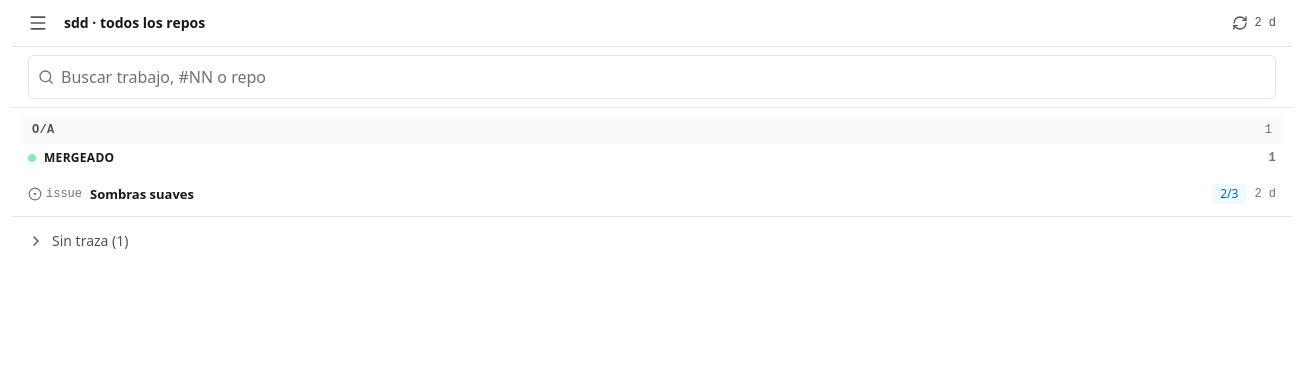
Test case: marcas de traza y ancla en la lista y el detalle › la fila de un trabajo sin traza lleva la palabra de su ancla y el badge; la de uno con traza, solo la palabra
Click the button "Sin traza (1)": (78, 241) [20,225,136,257]
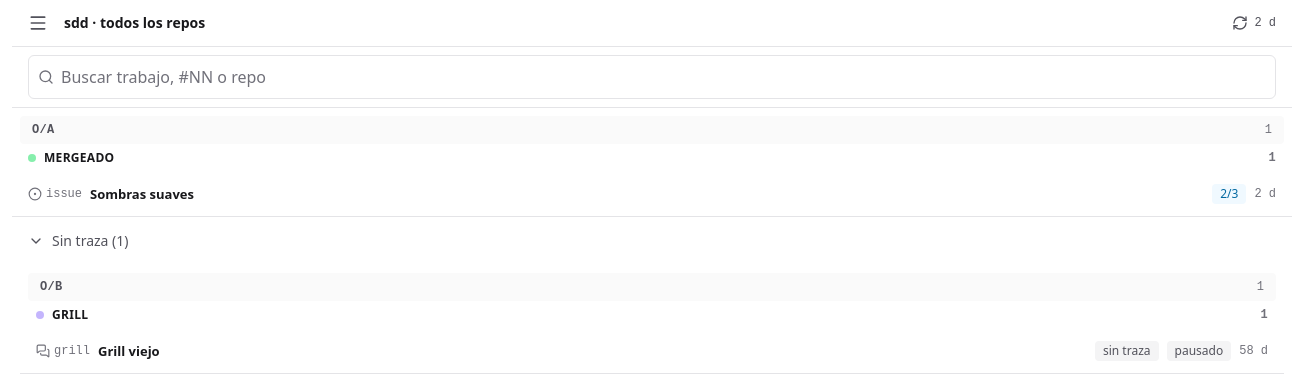
Expected: the text "issue" is shown, [28,186,82,202]
Expected: the text "sin traza" is shown, [1095,341,1158,361]
Expected: the text "grill" is shown, [36,343,90,359]
